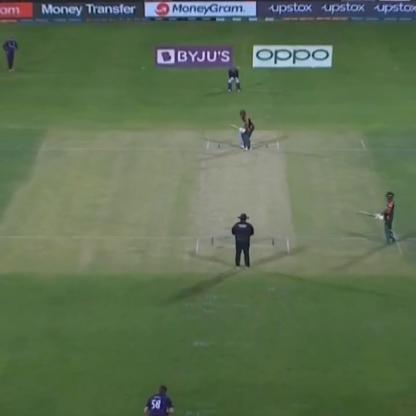bat: (224, 114, 242, 135), (352, 208, 375, 220)
pitch: (190, 131, 294, 266)
